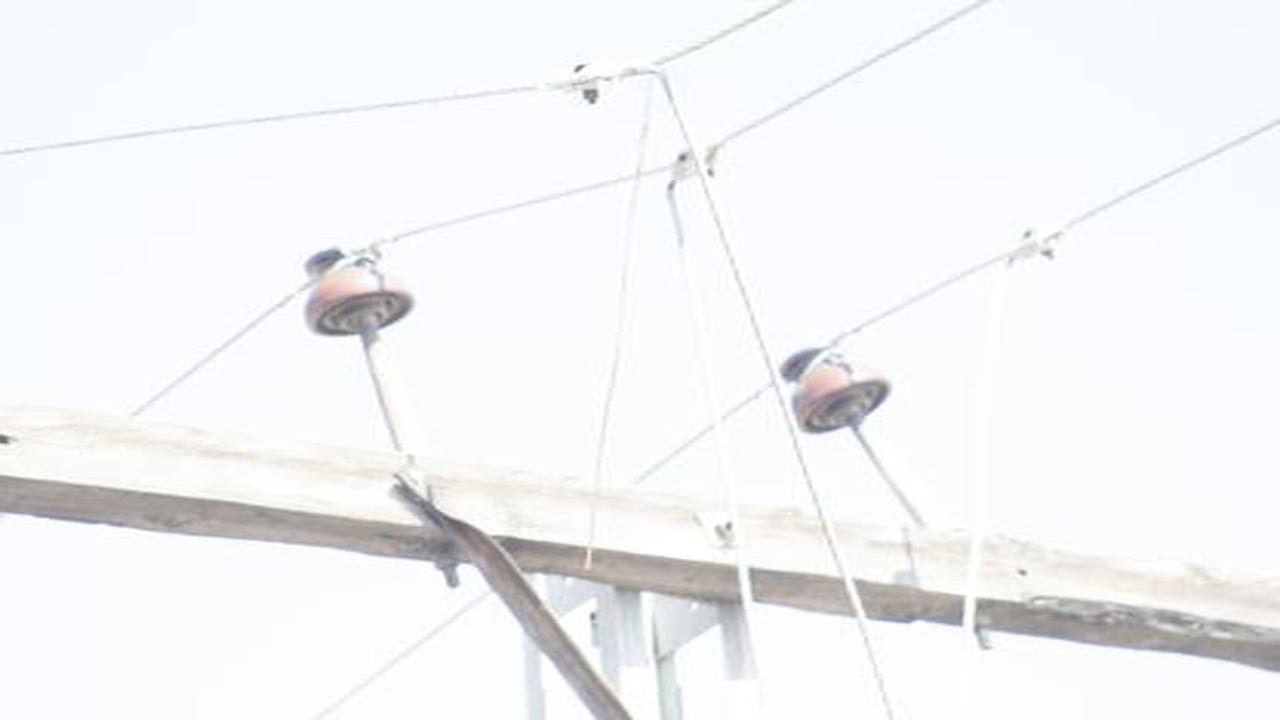insulator_pin: (778, 340, 899, 450), (304, 241, 417, 346)
